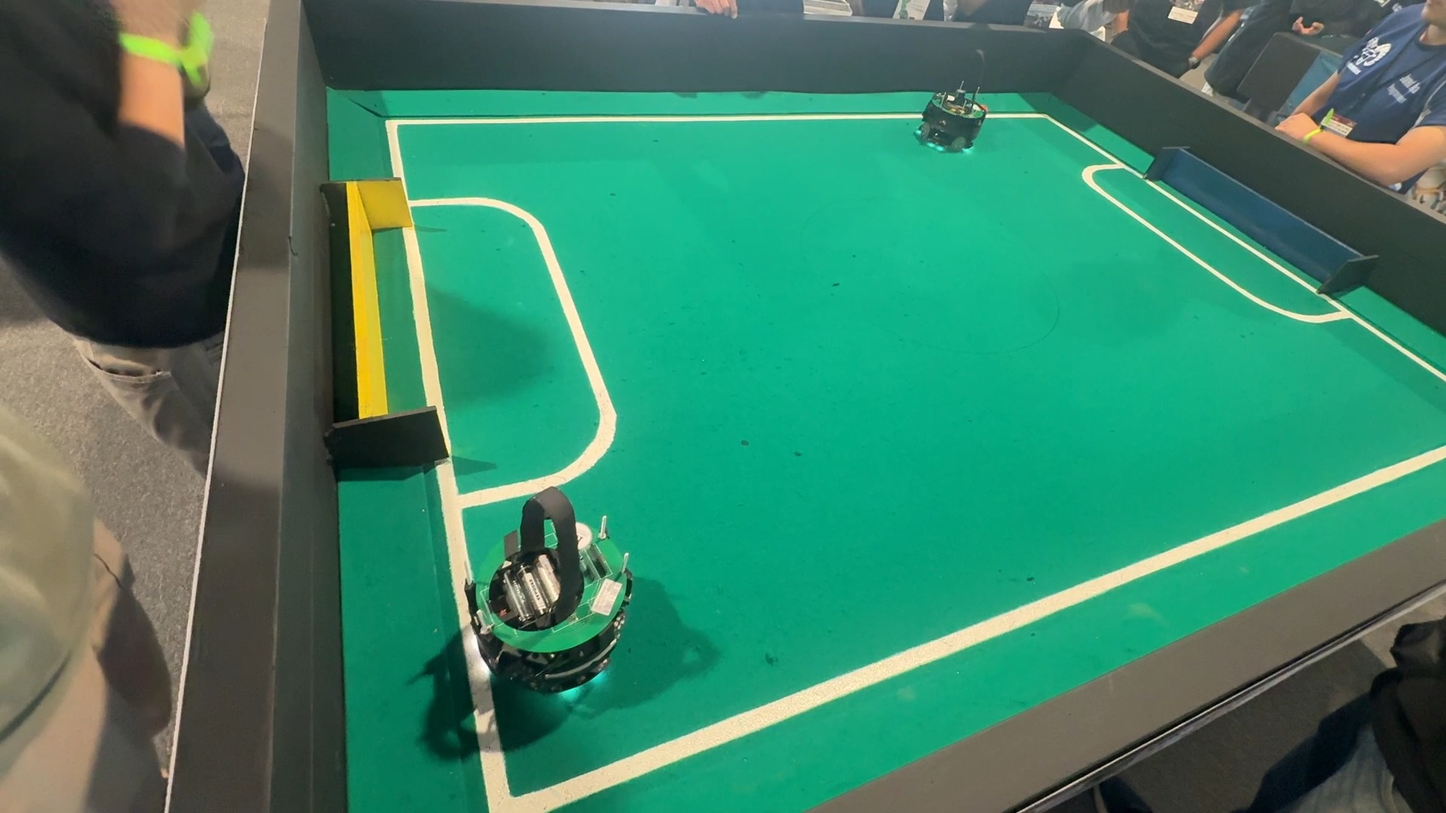Robot: (465, 489, 699, 720), (904, 82, 1007, 166)
